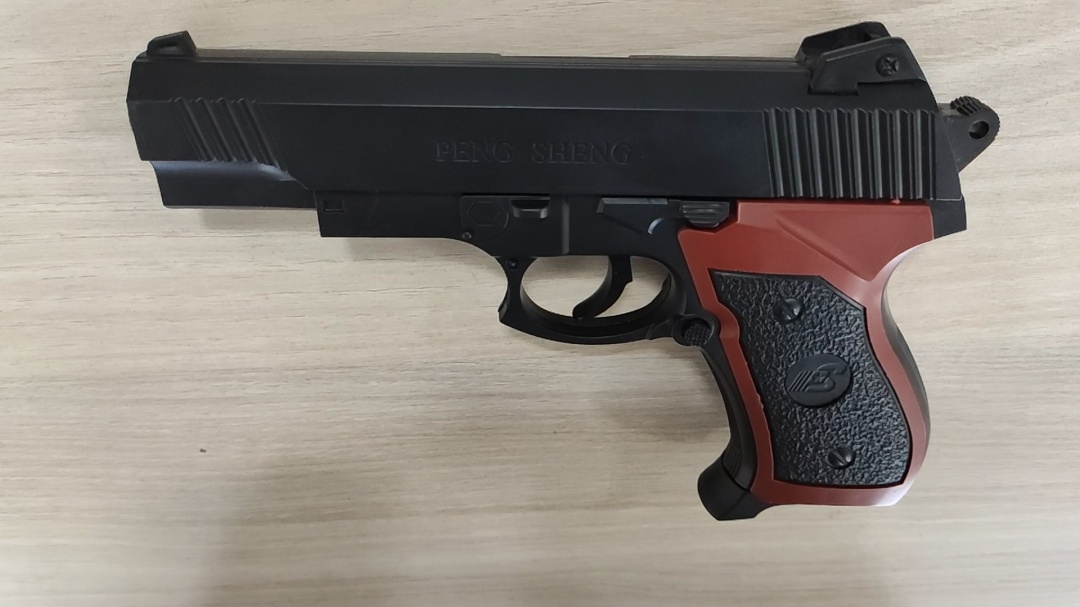gun: (391, 233, 478, 300)
